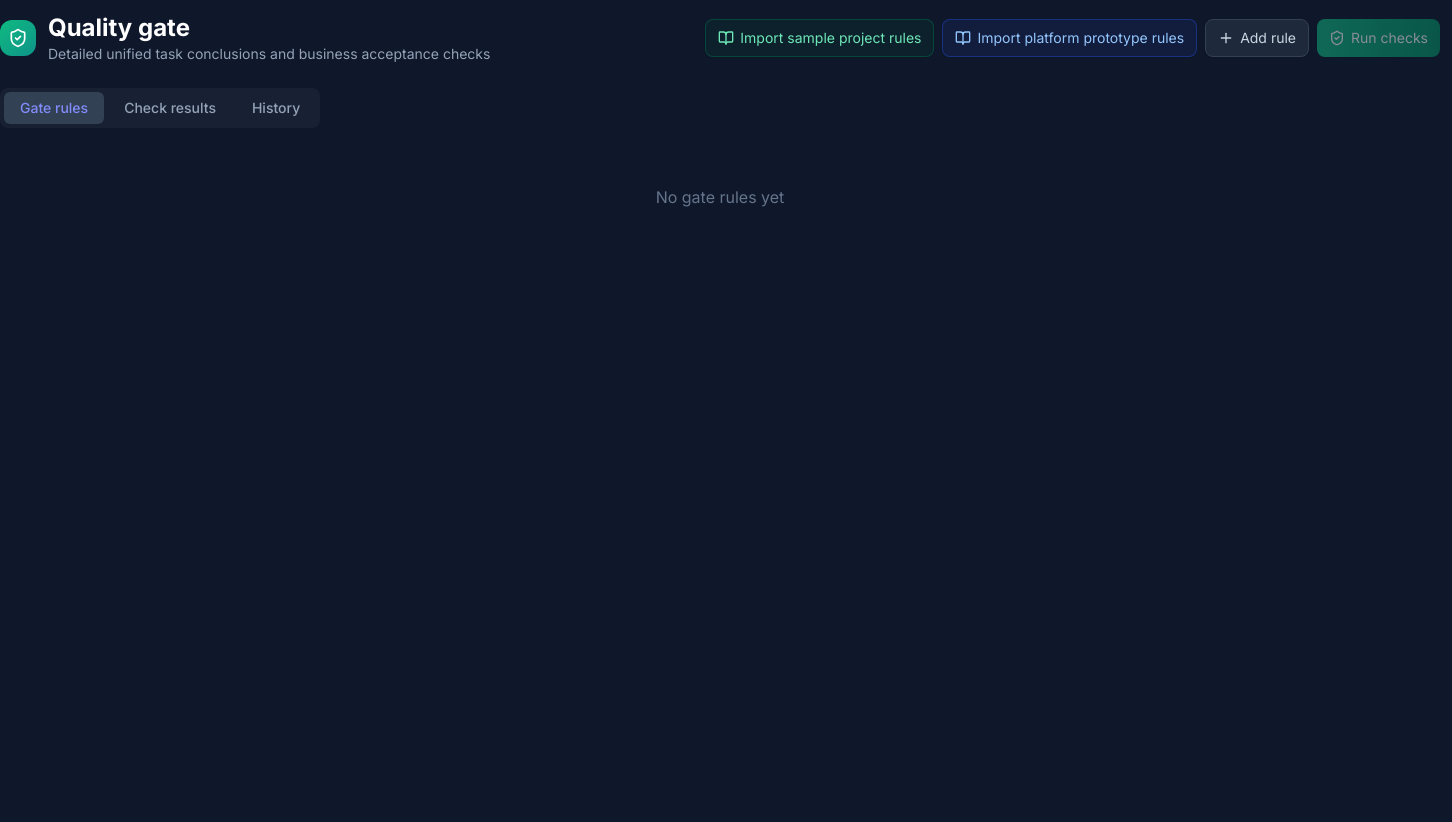
Test: QualityGatePage › should import sample_platform platform prototype rules
The width and height of the screenshot is (1452, 822).
Click the button "Import platform prototype rules": click(1070, 38) [942,19,1197,57]
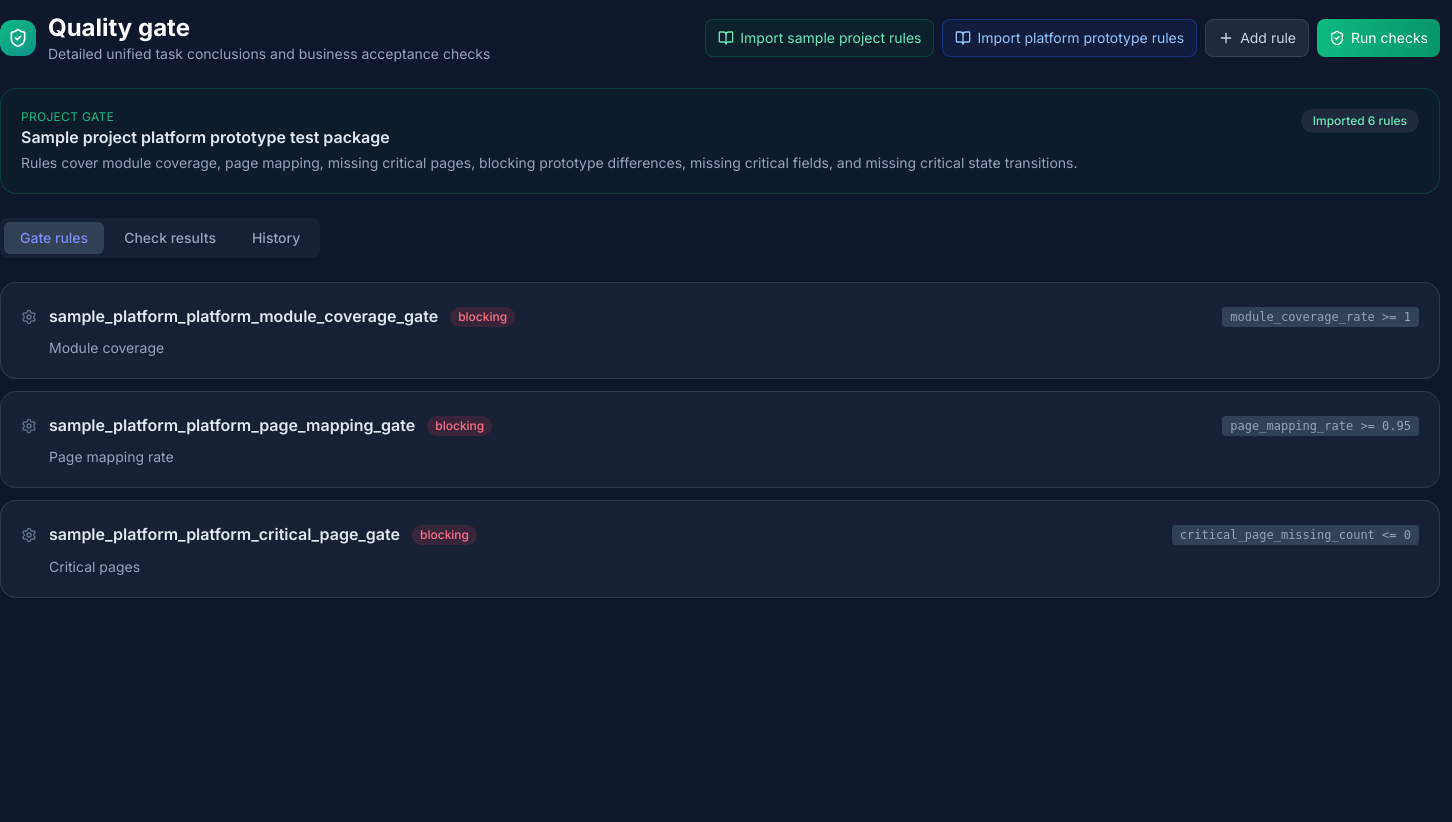
Expected: the heading "Sample project platform prototype test package" is shown, [21,127,390,147]
Expected: the text "Imported 6 rules" is shown, [1301,109,1419,133]
Expected: the text "Rules cover module coverage, page mapping, missing critical pages, blocking prototype differences, missing critical fiel" is shown, [21,154,1078,171]
